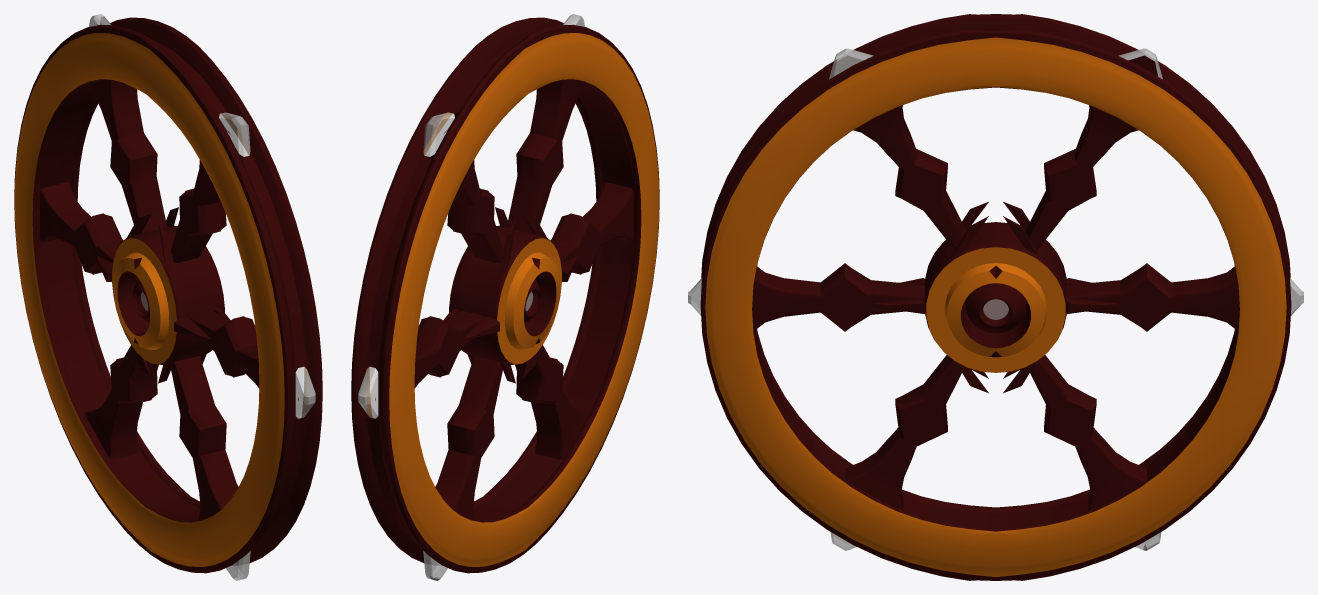
Rendered from BossWheelSplitSmall_NormalRoll.FBX.
The picture shows the model from 3 angles, left to right: view 1: azimuth 30°, elevation 25°; view 2: azimuth 150°, elevation 25°; view 3: azimuth 270°, elevation 25°; orthographic projection. The views are drawn at different scales.
Visible parts, largest first — view 1: wheelBossSmall001; view 2: wheelBossSmall001; view 3: wheelBossSmall001.
Boxes of the visible parts, bbox=[...] form: wheelBossSmall001: bbox=[14, 14, 322, 580]; wheelBossSmall001: bbox=[351, 14, 659, 580]; wheelBossSmall001: bbox=[688, 14, 1303, 580].
Bounding box in the file's own units: 20.46 × 144 × 146.
